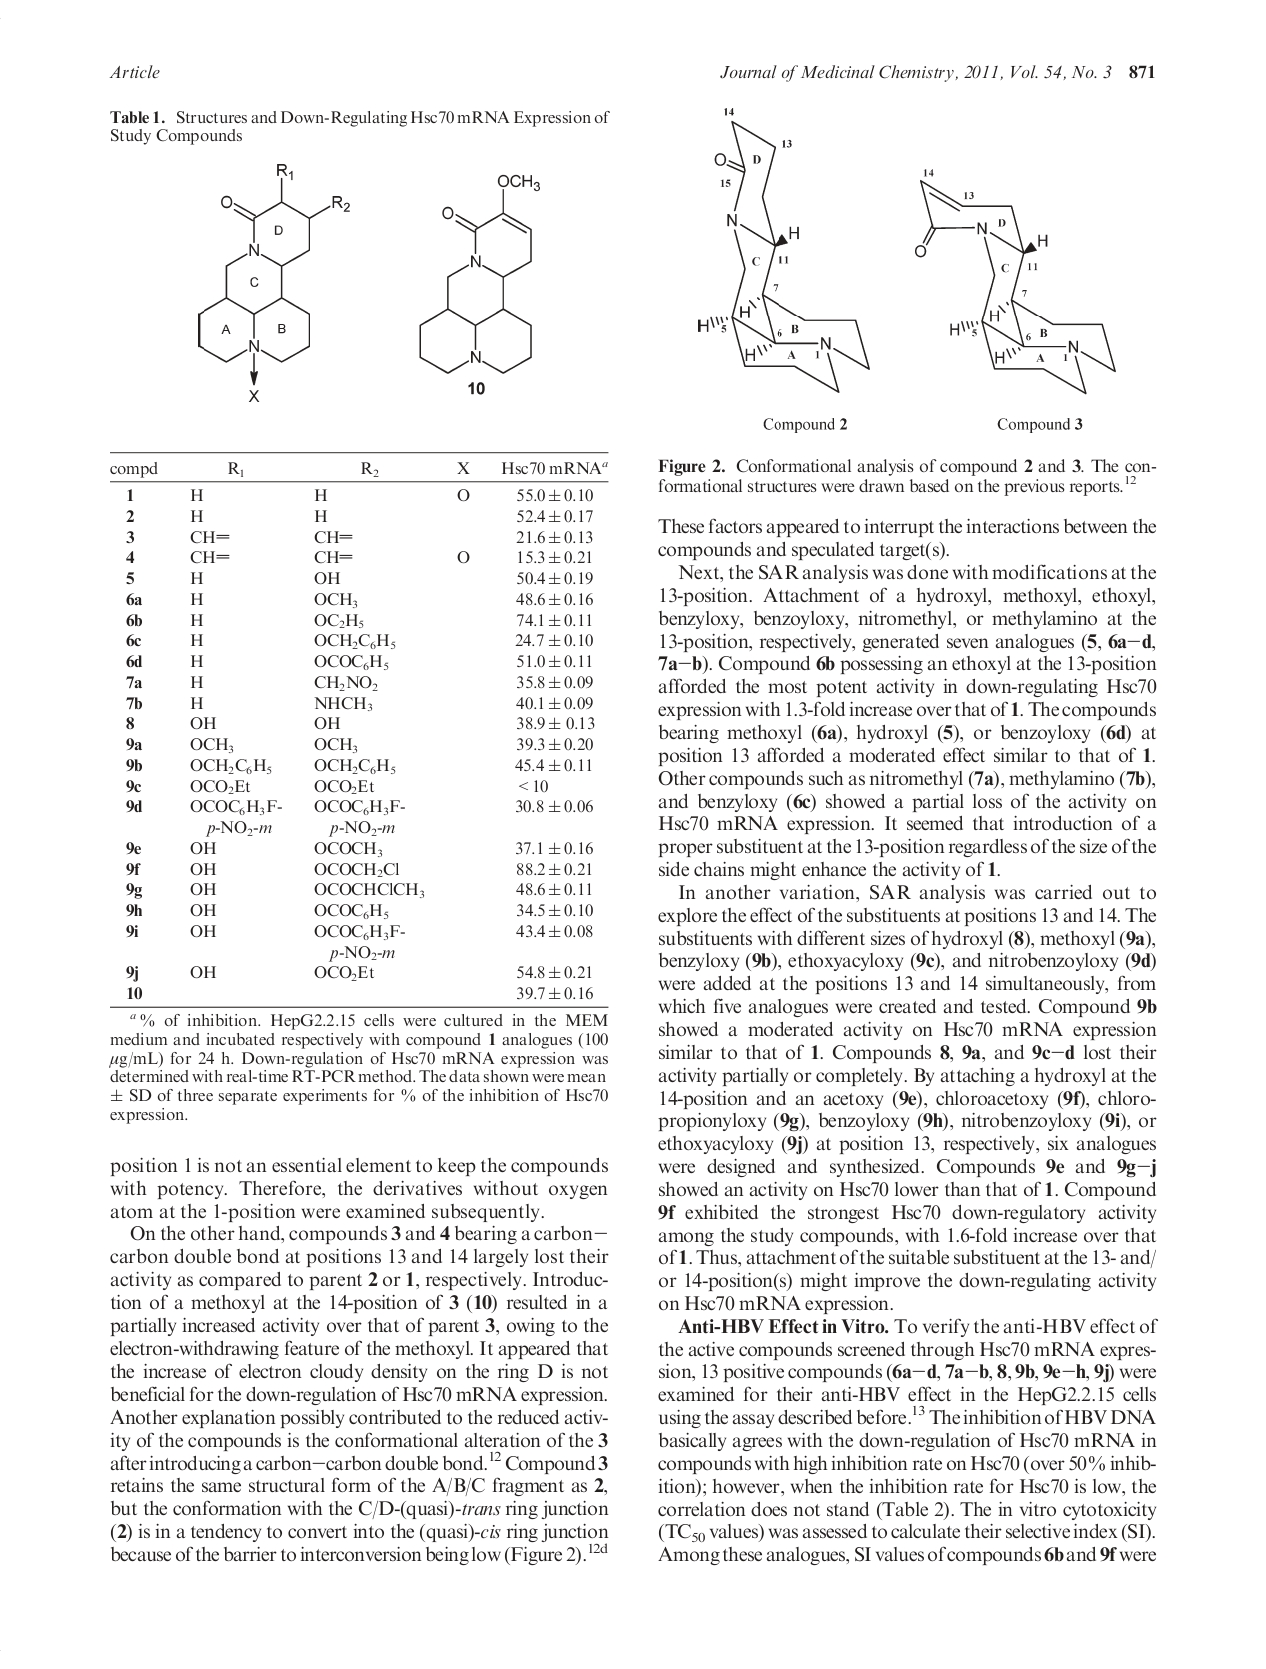exist_molecular: (696, 120, 872, 394), (911, 178, 1118, 395), (194, 161, 352, 406), (414, 169, 543, 376)
